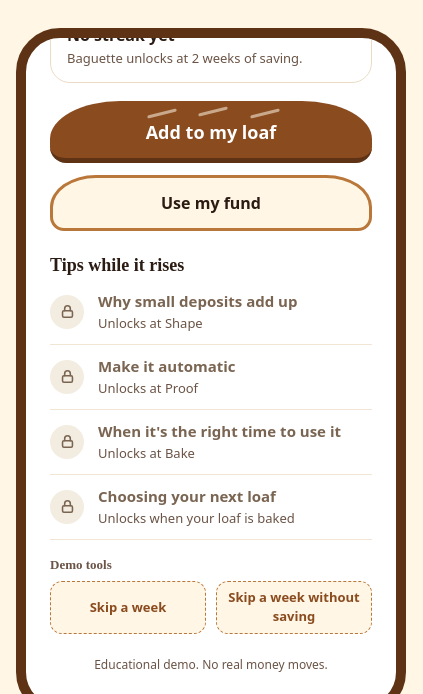
Scenario: Home streak card and unlock moment › shows the demo tools only in demo mode, and Skip a week builds the streak
(page scrolled)
Step 1. Click the button "Skip a week" → (128, 607), box x1=50 y1=581 x2=206 y2=634
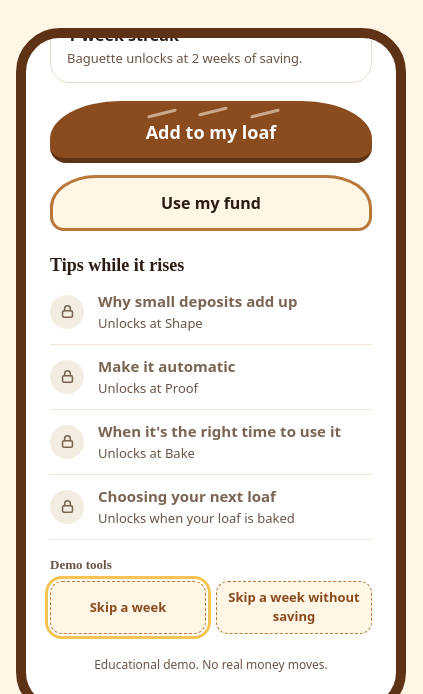
Step 2. Click the button "Skip a week" → (128, 607), box x1=50 y1=581 x2=206 y2=634
(page scrolled)
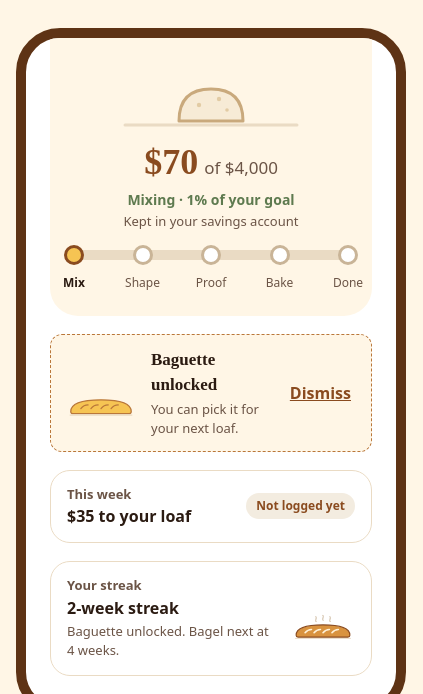
Check: the text "Baguette unlocked" is shown, box x1=151 y1=350 x2=217 y2=394
